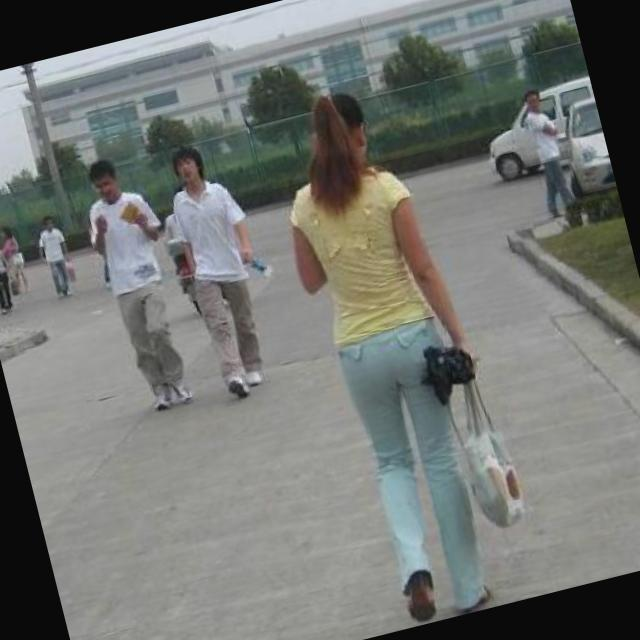Person: (257, 74, 538, 633), (144, 130, 293, 408), (75, 147, 208, 417), (512, 78, 586, 230), (25, 210, 84, 306), (0, 213, 15, 351)
